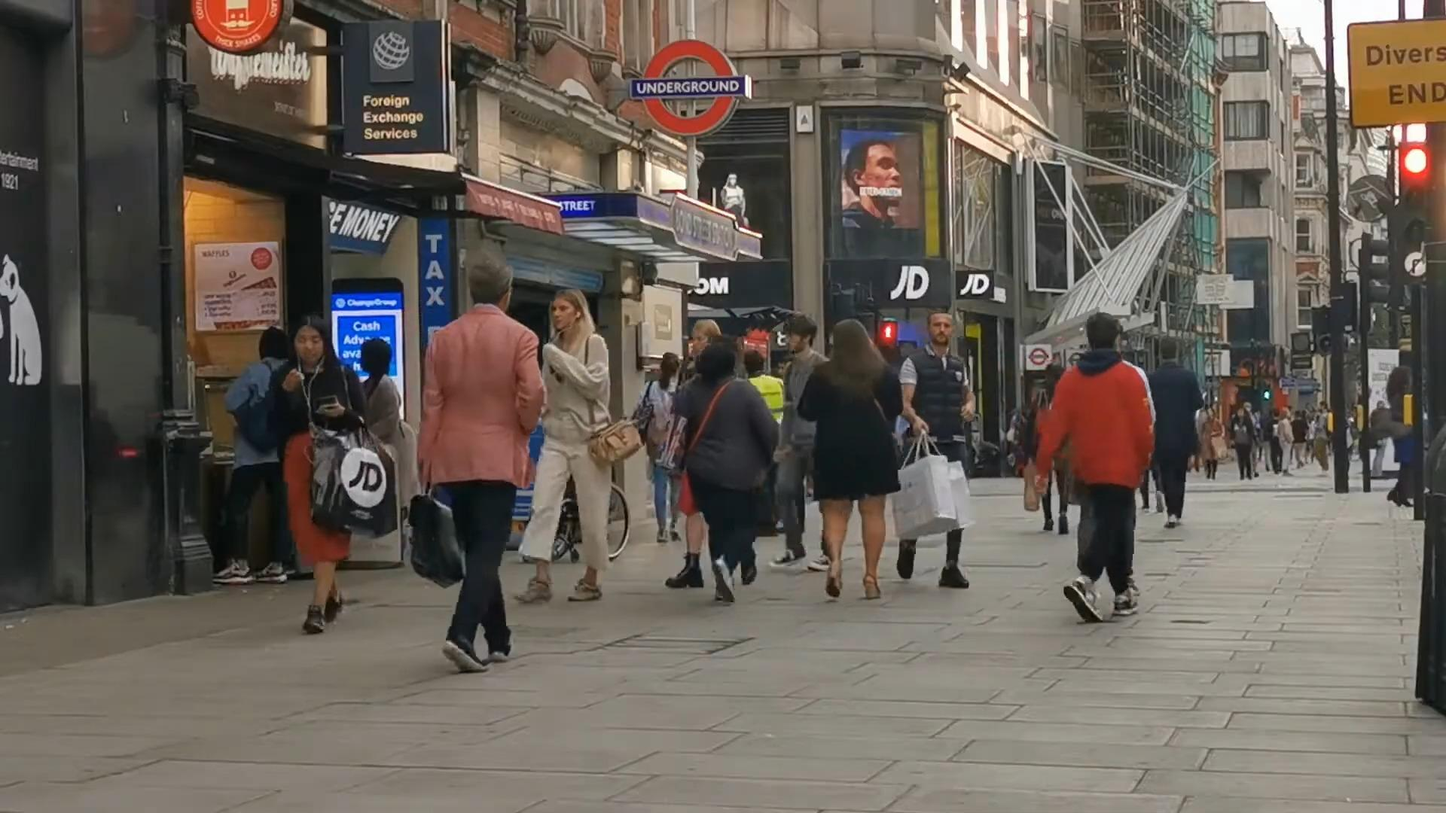no-helmet: (470, 259, 515, 312), (288, 315, 333, 364), (549, 288, 595, 335), (830, 319, 880, 360), (700, 345, 734, 389), (783, 314, 819, 354), (1087, 311, 1121, 350), (927, 309, 955, 347), (692, 320, 721, 356), (659, 352, 681, 390), (743, 350, 764, 375), (1161, 336, 1179, 363)
